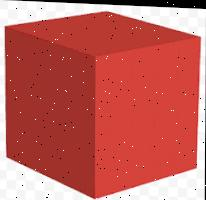cube: (6, 6, 200, 200)
